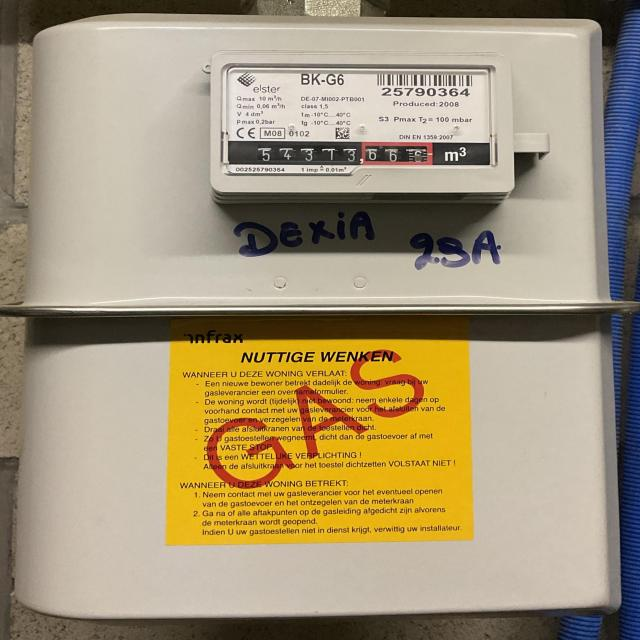gaz_meter: (219, 64, 494, 168)
indication: (246, 140, 434, 165)
